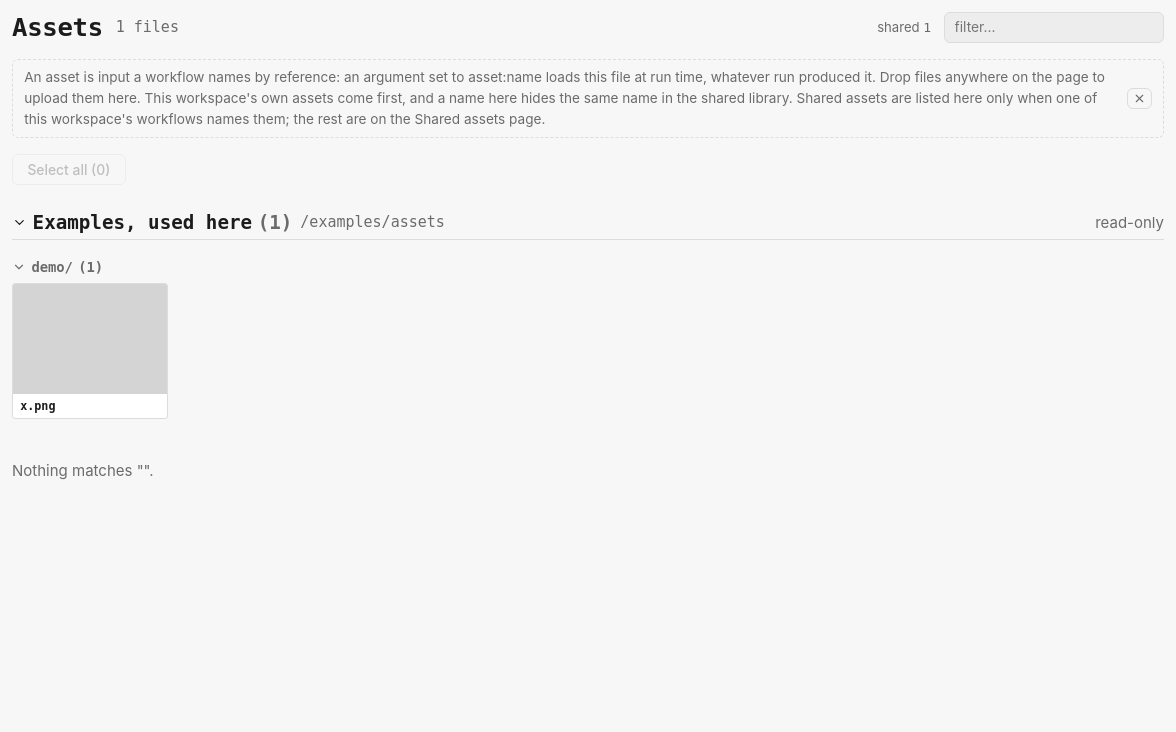
Test case: offers no delete for a read-only examples asset
This screenshot has width=1176, height=732.
Expected: the text "x.png" is shown, [20,399,56,413]
Click the button with aria-label "show details for demo/x.png".
click(90, 351)  # box [12,283,168,419]
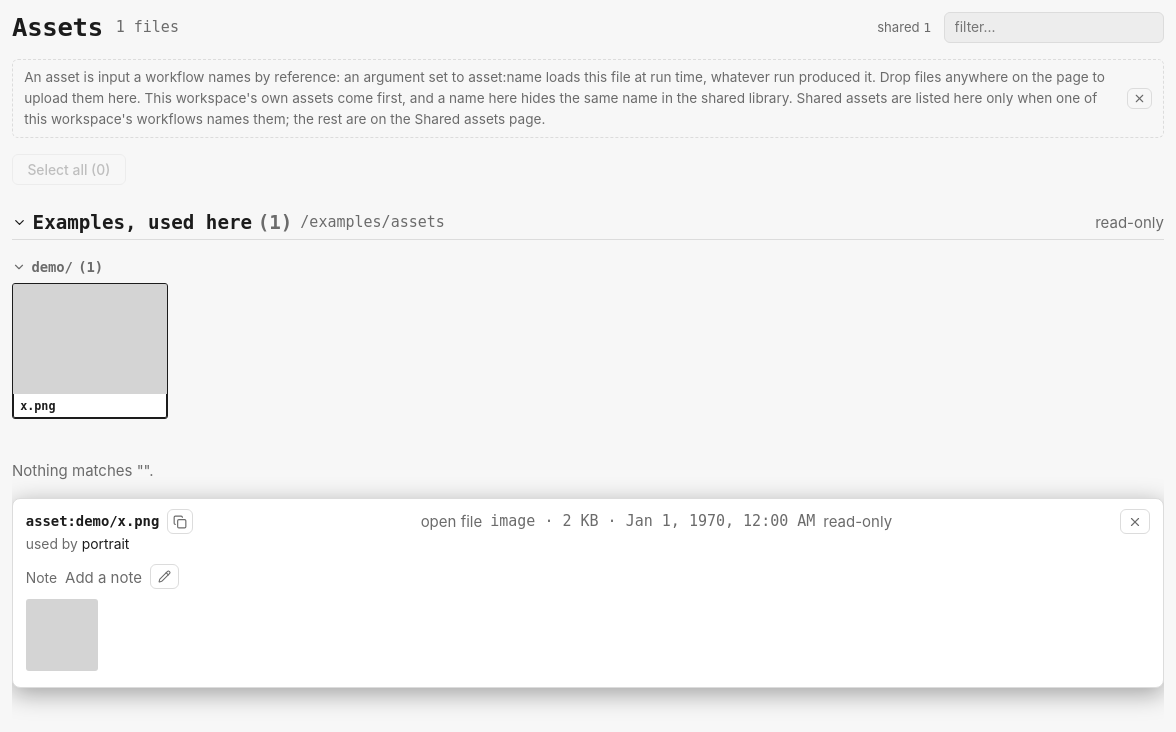
Expected: the text titled "read-only: an examples library brought it" next to "image · 2 KB · Jan 1, 1970, 12:00 AM" is shown, [823,510,892,533]
